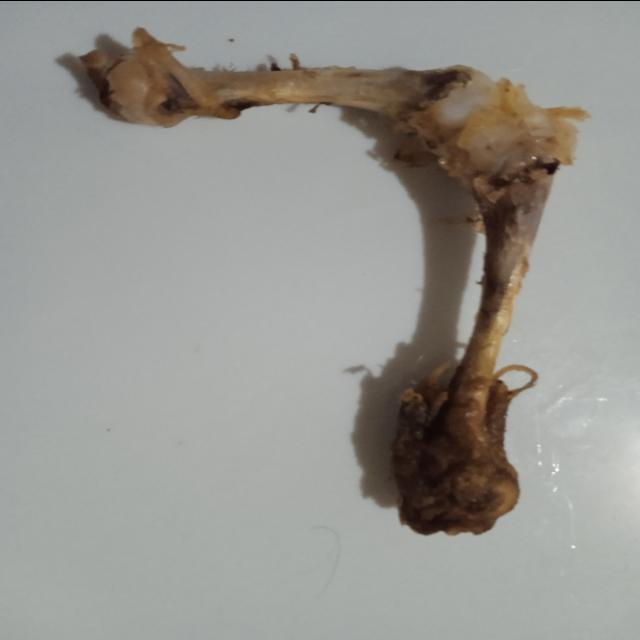bone: (35, 22, 606, 550)
